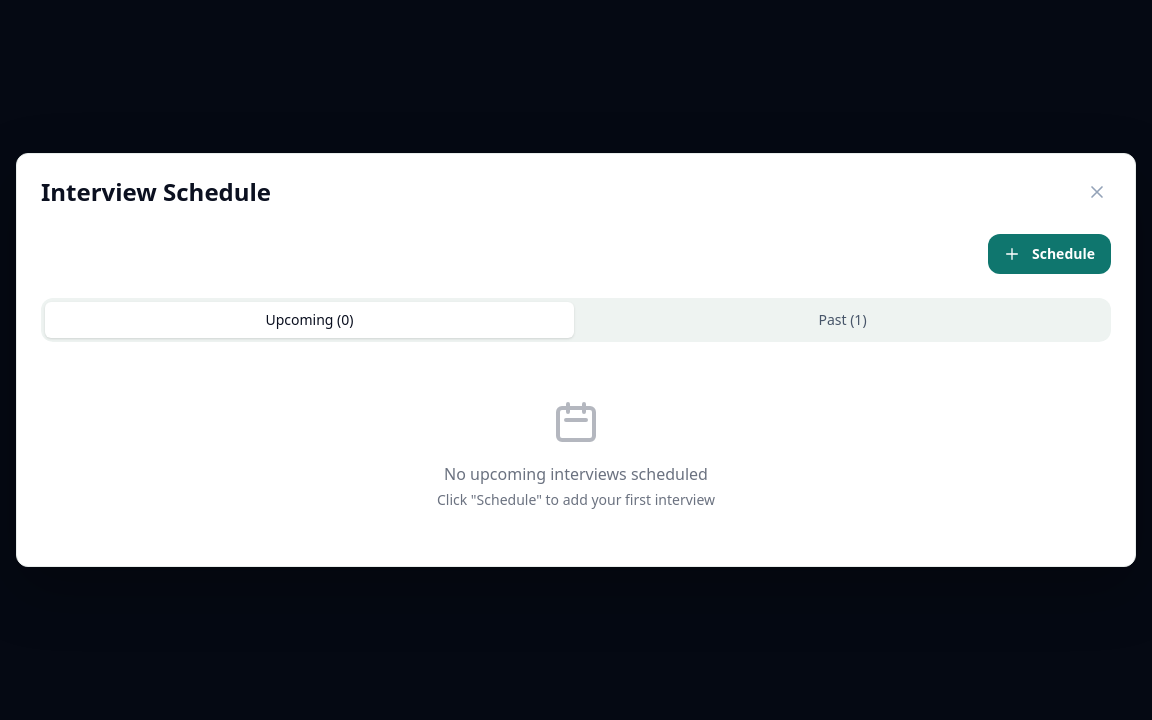
Scenario: InterviewScheduler › follow-up reminders › shows follow-up checkbox for past interviews
Click the button "Past (1)": (842, 320) 578,302 -> 1107,338
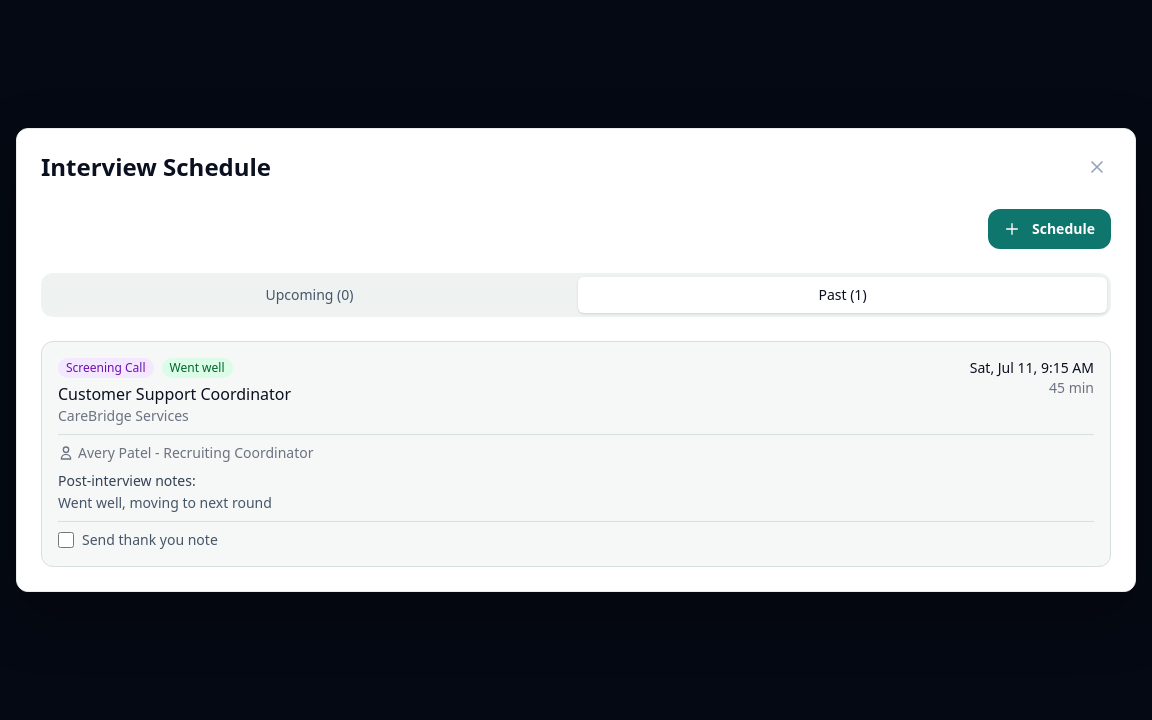
Expected: the text "Send thank you note" is shown, 82,530 -> 218,550
